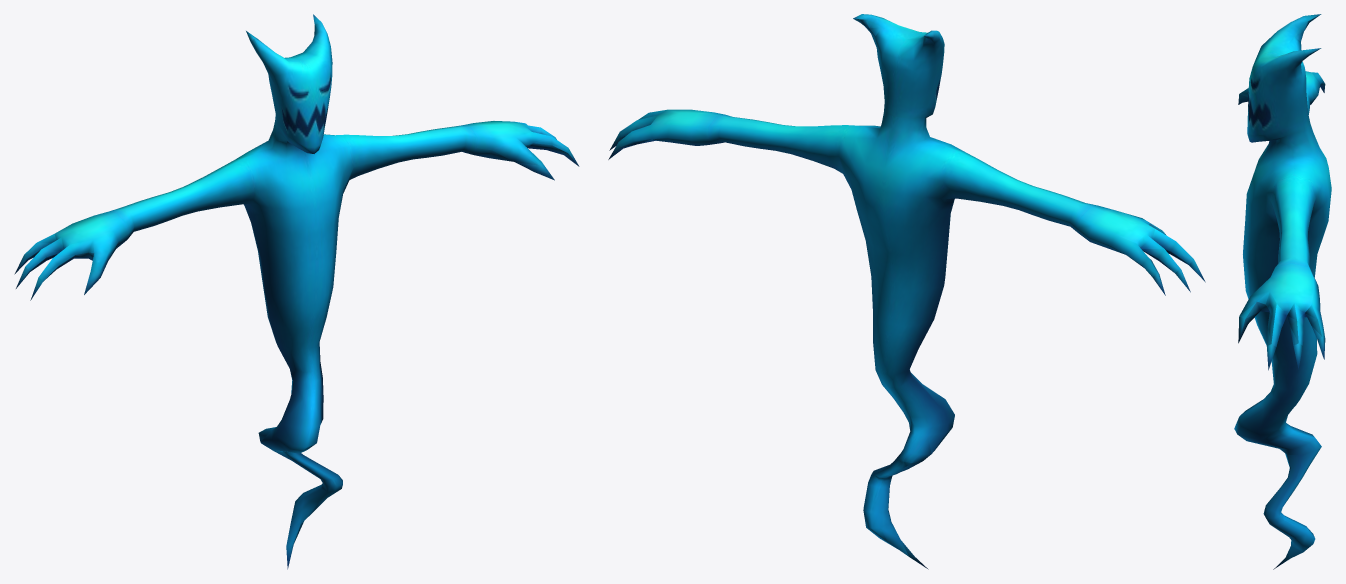
3 renders of one model, left to right at view 1: azimuth 30°, elevation 25°; view 2: azimuth 150°, elevation 25°; view 3: azimuth 270°, elevation 25°, orthographic. The views are drawn at different scales.
Visible parts, largest first — view 1: ghost; view 2: ghost; view 3: ghost.
Part boxes in pixels (x1,y1,x2,y2): ghost: (14,14,579,569); ghost: (608,14,1205,569); ghost: (1234,14,1331,569).
Bounding box in the file's own units: 4.92 × 4.5 × 0.7283.
Materials: 1 (1 with a texture image).
